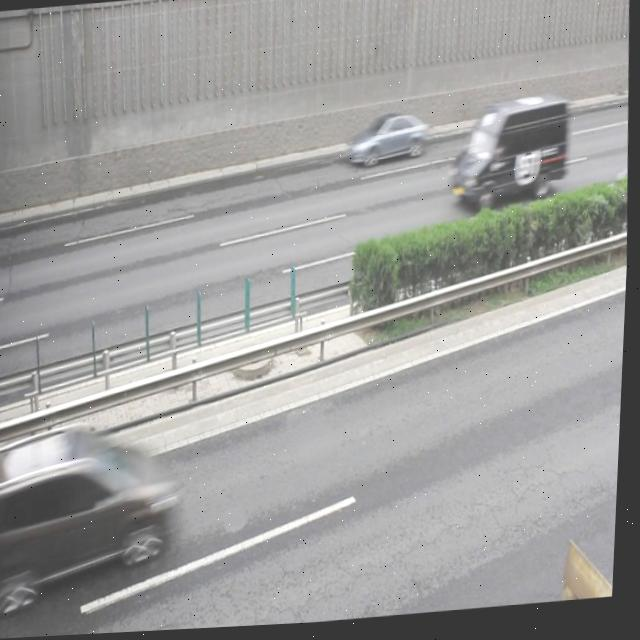car: (10, 419, 184, 604), (347, 111, 430, 170)
truck: (447, 96, 573, 217)
